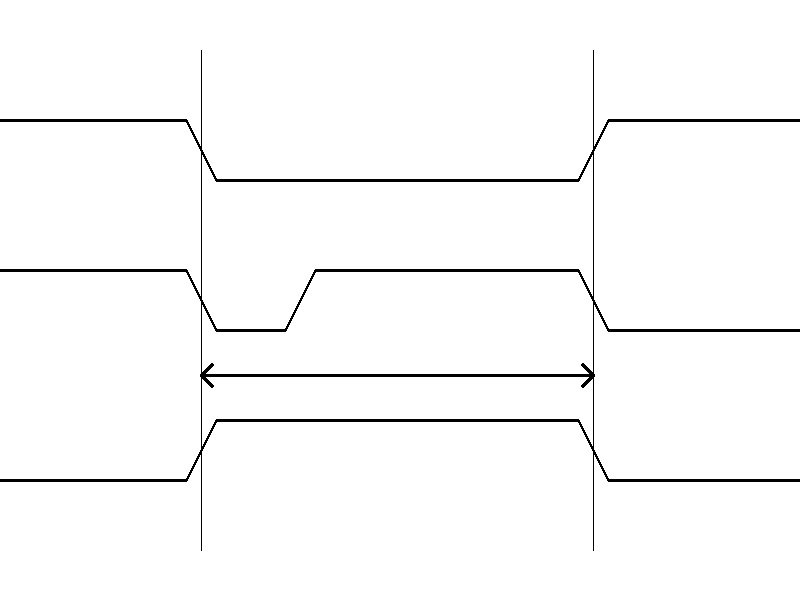double_arrow: (201, 360, 593, 390)
